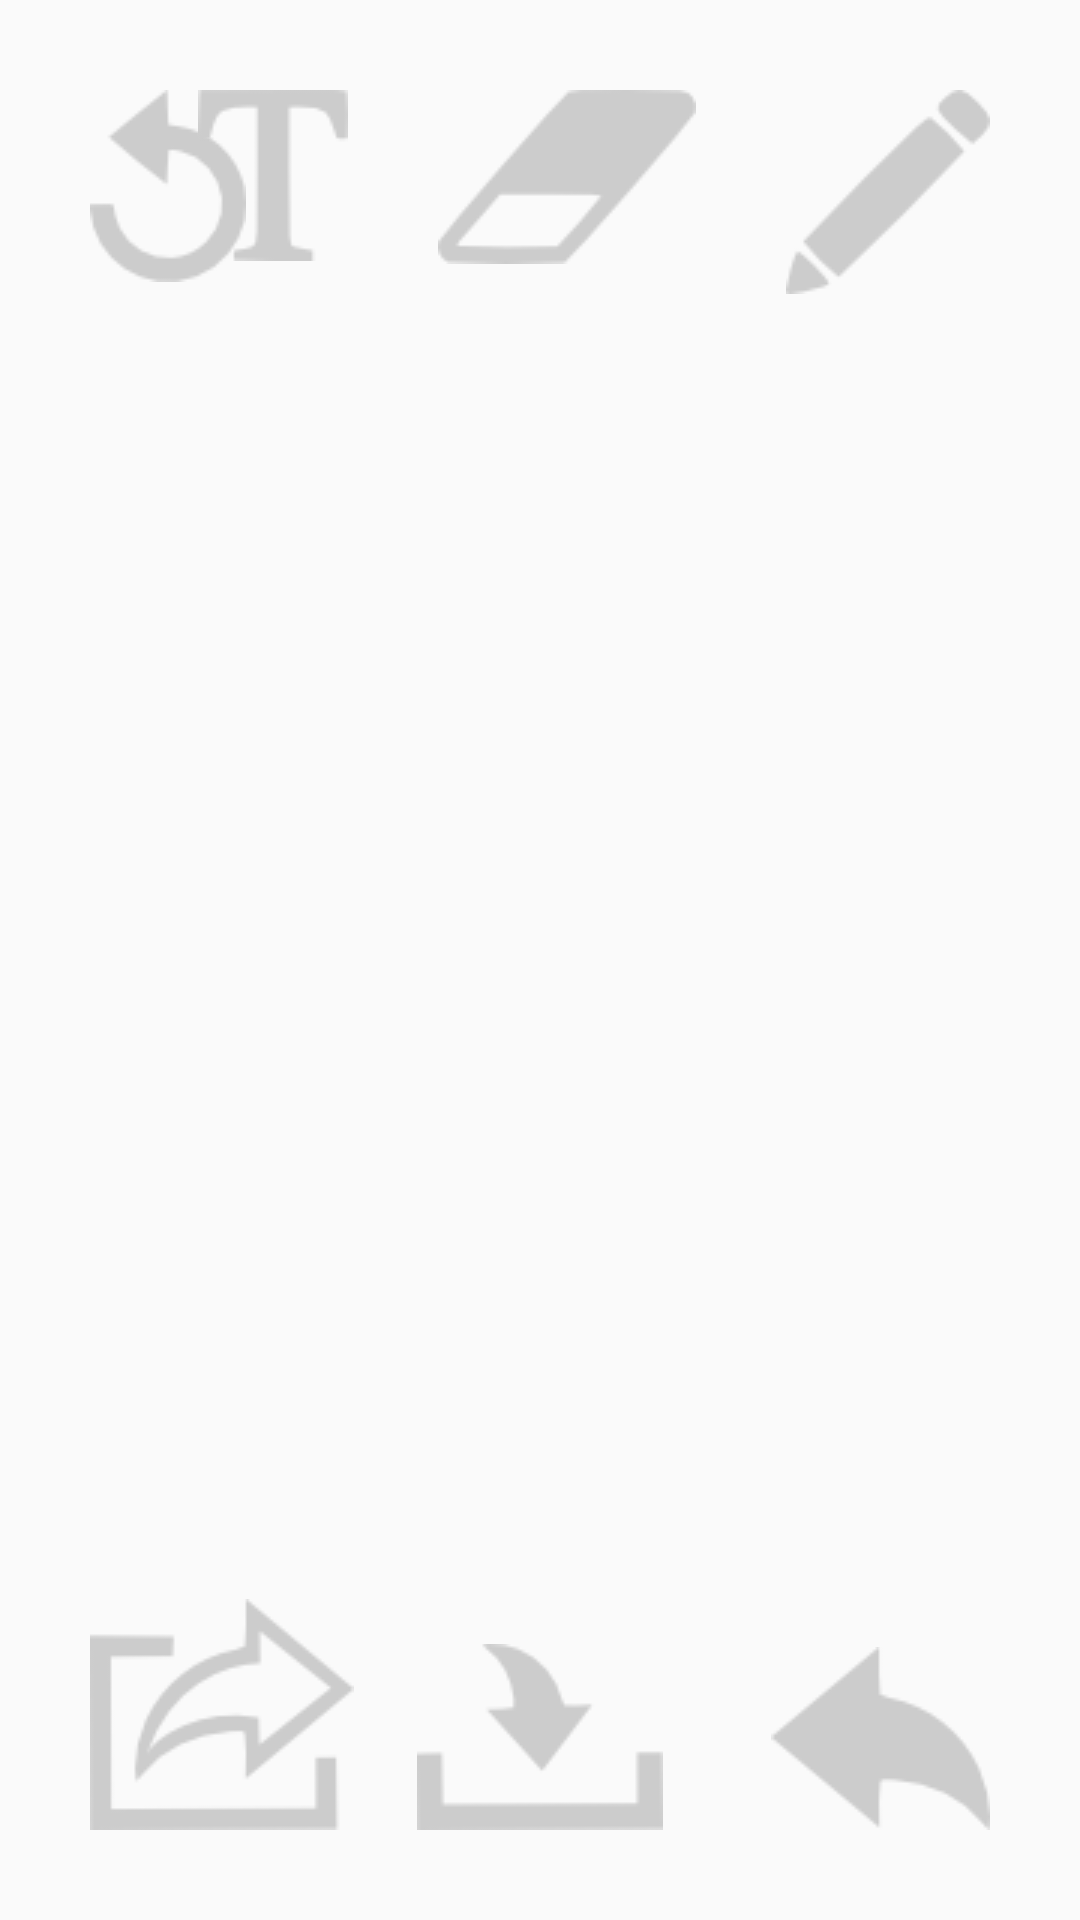

Icon click points for this 1080px x 1920px phone screenshot, format point (x, y):
download: point (540, 1737)
draw: point (888, 192)
text: point (273, 175)
